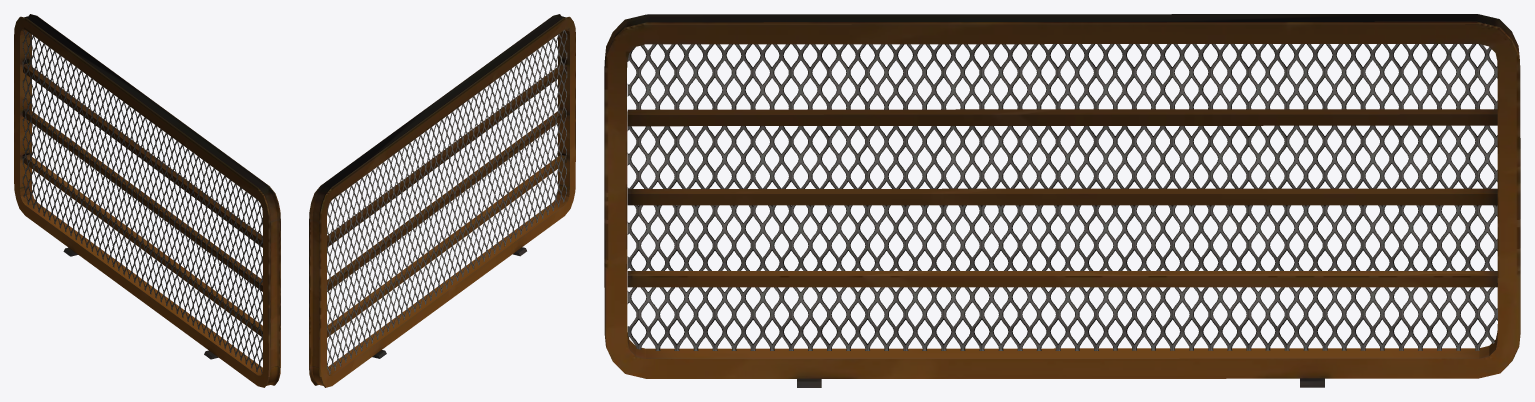
3 renders of one model, left to right at view 1: azimuth 30°, elevation 25°; view 2: azimuth 150°, elevation 25°; view 3: azimuth 270°, elevation 25°, orthographic. The views are drawn at different scales.
Visible parts, largest first — view 1: body0_model0_lod0_mesh1, body0_model0_lod0_mesh0; view 2: body0_model0_lod0_mesh1, body0_model0_lod0_mesh0; view 3: body0_model0_lod0_mesh1, body0_model0_lod0_mesh0.
Part boxes in pixels (x1,y1,x2,y2): body0_model0_lod0_mesh1: [14, 14, 280, 387]; body0_model0_lod0_mesh0: [22, 30, 262, 373]; body0_model0_lod0_mesh1: [309, 14, 575, 387]; body0_model0_lod0_mesh0: [327, 30, 567, 374]; body0_model0_lod0_mesh1: [604, 14, 1520, 387]; body0_model0_lod0_mesh0: [627, 44, 1497, 350].
Size of the model in its own units: 9.05 by 81.32 by 187.
2 materials, 2 textured.
